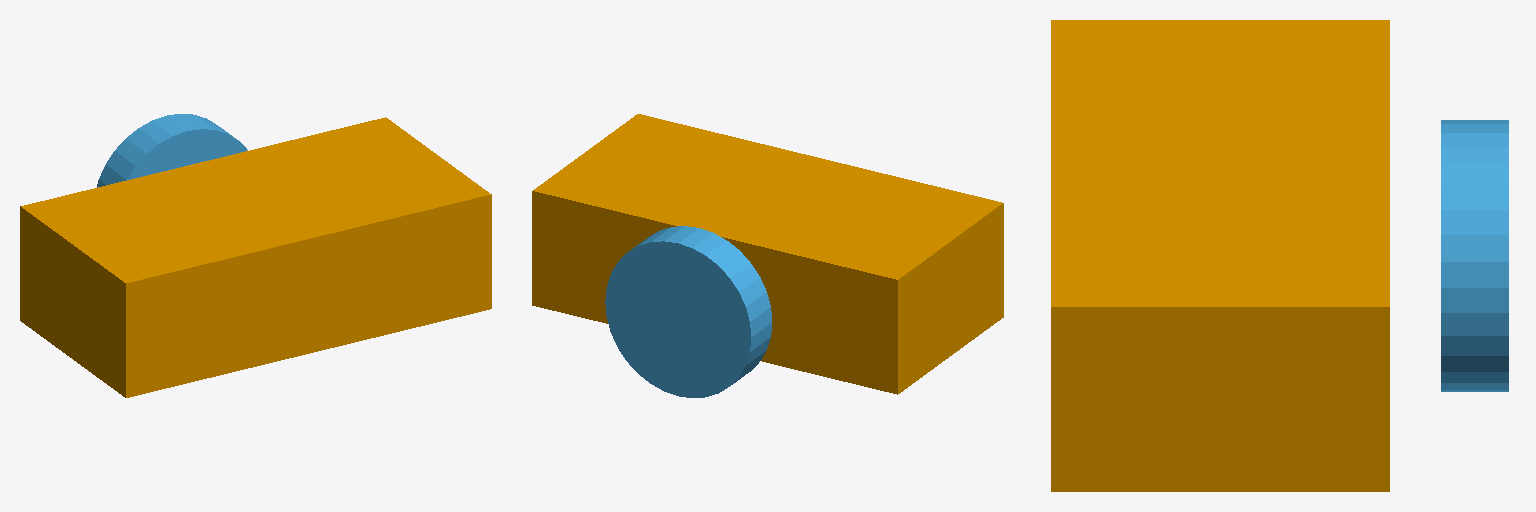
The robot description file, URDF, robot "anygine_adapter_hinge":
<?xml version="1.0"?>
<robot name="anygine_adapter_hinge">
  <link name="base">
    <inertial>
      <origin xyz="0 0 0" rpy="0 0 0"/>
      <mass value="2.0"/>
      <inertia ixx="0.03" ixy="0" ixz="0" iyy="0.03" iyz="0" izz="0.03"/>
    </inertial>
    <visual>
      <geometry><box size="0.4 0.2 0.12"/></geometry>
    </visual>
    <collision>
      <geometry><box size="0.4 0.2 0.12"/></geometry>
    </collision>
  </link>
  <joint name="wheel_joint" type="continuous">
    <parent link="base"/>
    <child link="wheel"/>
    <origin xyz="0 0.15 0" rpy="1.57079632679 0 0"/>
    <axis xyz="0 0 1"/>
    <limit effort="8" velocity="20"/>
  </joint>
  <link name="wheel">
    <inertial>
      <origin xyz="0 0 0" rpy="0 0 0"/>
      <mass value="0.4"/>
      <inertia ixx="0.001" ixy="0" ixz="0" iyy="0.001" iyz="0" izz="0.001"/>
    </inertial>
    <visual>
      <geometry><cylinder radius="0.08" length="0.04"/></geometry>
    </visual>
    <collision>
      <geometry><cylinder radius="0.08" length="0.04"/></geometry>
    </collision>
  </link>
</robot>

--- Render facts (derived) ---
3 views of the same robot in one strip: view 1: azimuth 30°, elevation 25°; view 2: azimuth 150°, elevation 25°; view 3: azimuth 270°, elevation 25° (orthographic).
Model anygine_adapter_hinge with 2 links and 1 joints (1 continuous), rooted at base, posed all joints at 0.
Links seen in each view (by area): view 1: base, wheel; view 2: base, wheel; view 3: base, wheel.
Link boxes in pixels (<box>): base: <box>20,117,491,397</box>; wheel: <box>97,114,247,187</box>; base: <box>532,114,1003,394</box>; wheel: <box>605,226,771,397</box>; base: <box>1051,20,1389,491</box>; wheel: <box>1441,120,1508,391</box>.
Size in the robot's own frame: 0.4 by 0.27 by 0.16 metres.
Geometry: primitives only (box / cylinder / sphere), no mesh files.
